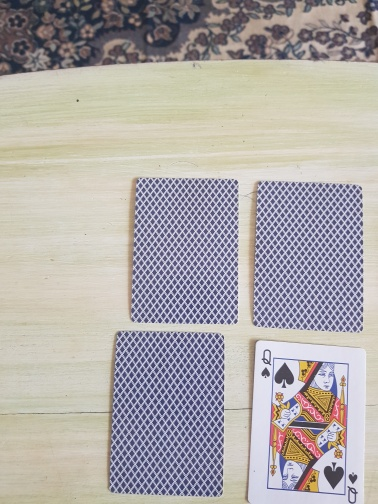queen: (246, 339, 370, 504)
